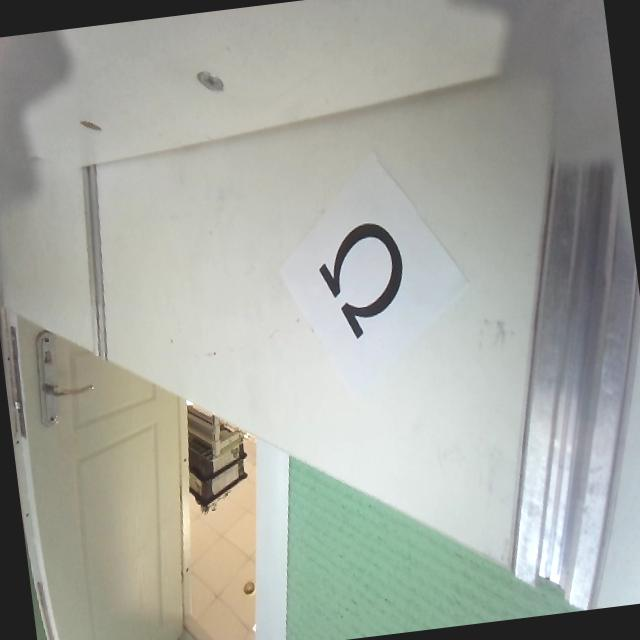OM: (313, 218, 410, 341)
